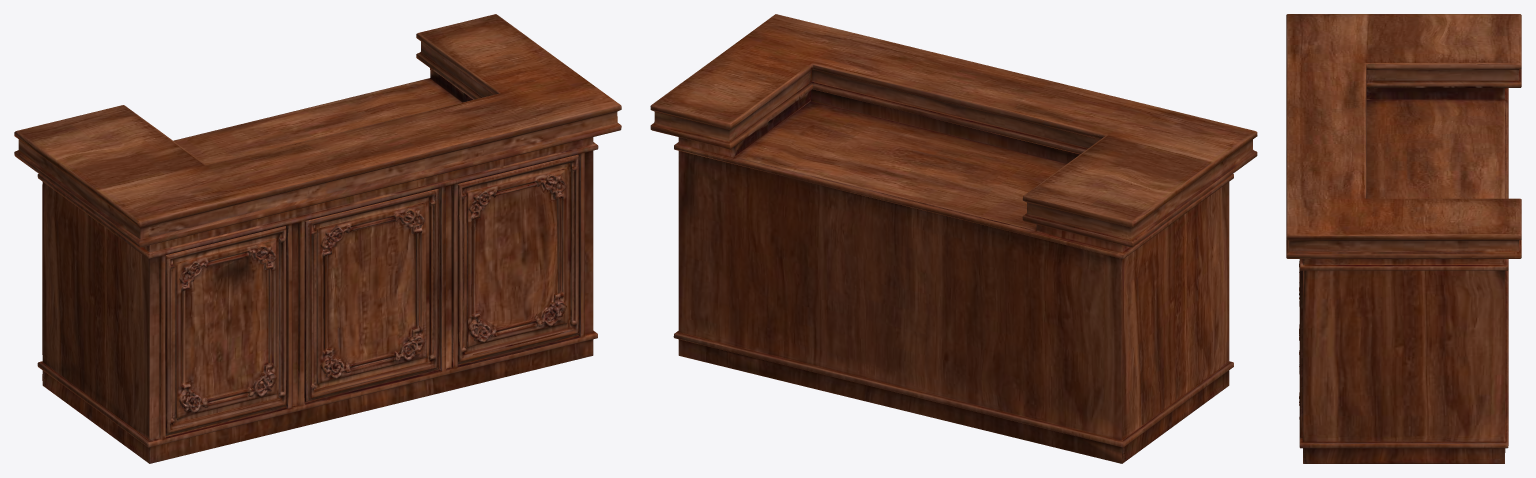
Rendered from counter.glb.
The picture shows the model from 3 angles, left to right: view 1: azimuth 30°, elevation 25°; view 2: azimuth 150°, elevation 25°; view 3: azimuth 270°, elevation 25°; orthographic projection. The views are drawn at different scales.
Parts seen in each view (by area): view 1: counter; view 2: counter; view 3: counter.
Boxes of the visible parts, box(x1,y1,x2,y2) form: counter: box(14, 14, 621, 463); counter: box(650, 14, 1257, 463); counter: box(1286, 14, 1521, 463).
Size of the model in its own units: 1.99 by 1 by 0.8961.
1 material, 1 textured.
